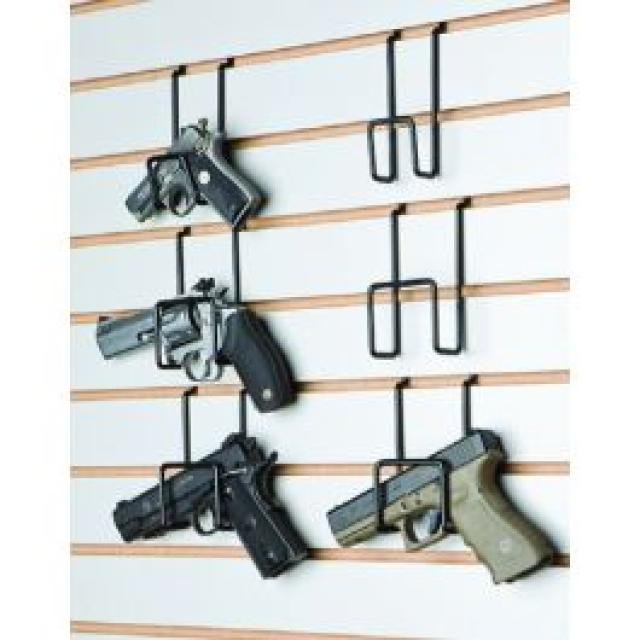HandGun: (97, 118, 297, 415), (326, 430, 570, 587), (116, 435, 314, 580)
